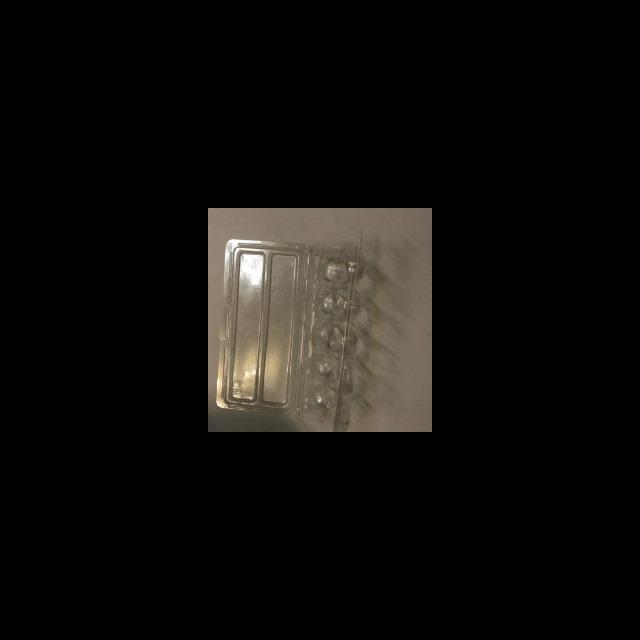plastic: (221, 230, 375, 432)
